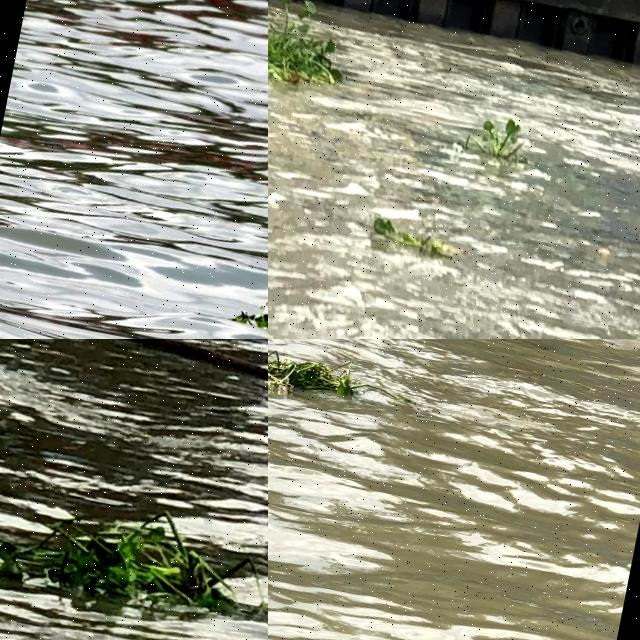water-hyacinth: (1, 486, 269, 634), (269, 1, 382, 94), (269, 340, 377, 409), (365, 208, 476, 272), (466, 111, 539, 171), (226, 287, 269, 340)
